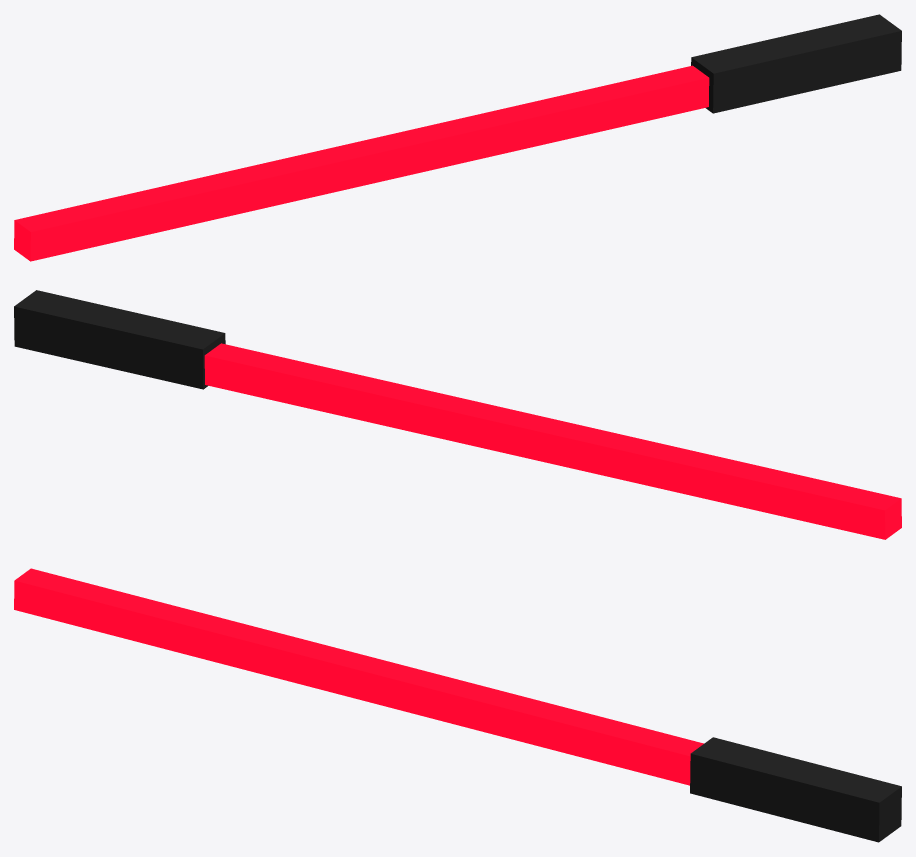
File: laser.FBX
3 views of the same model, one above another, from view 1: azimuth 30°, elevation 25°; view 2: azimuth 150°, elevation 25°; view 3: azimuth 330°, elevation 25° (orthographic).
Parts seen in each view (by area): view 1: Box025, Box024; view 2: Box025, Box024; view 3: Box025, Box024.
Boxes of the visible parts, x1,y1,x2,y2 form: Box025: [14, 65, 709, 261]; Box024: [691, 14, 901, 113]; Box025: [204, 343, 901, 539]; Box024: [14, 290, 225, 389]; Box025: [14, 568, 703, 785]; Box024: [690, 737, 901, 842].
Size of the model in its own units: 19.77 by 1.02 by 0.886.
